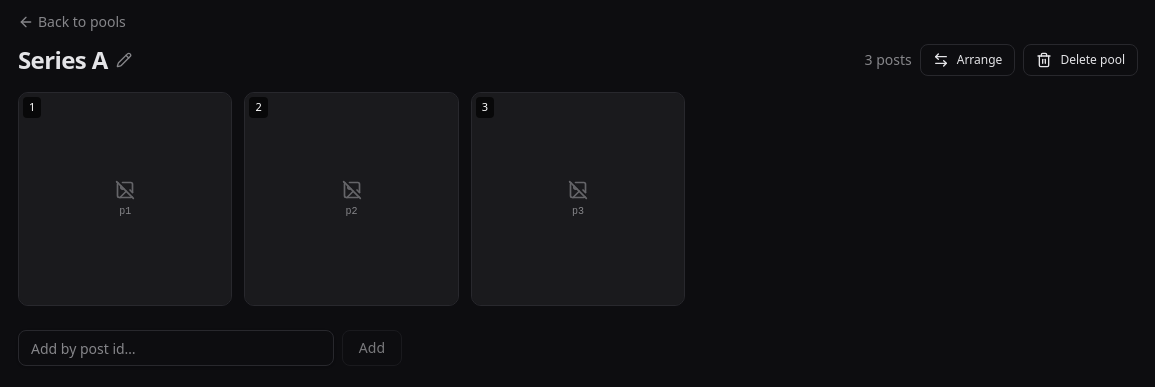
Test: PoolView › renames inline
expect the heading "Series A" is shown: met, box 18,44 -> 132,76
Step 1. Click the button named "rename pool" → click(124, 60), box 116,52 -> 132,68
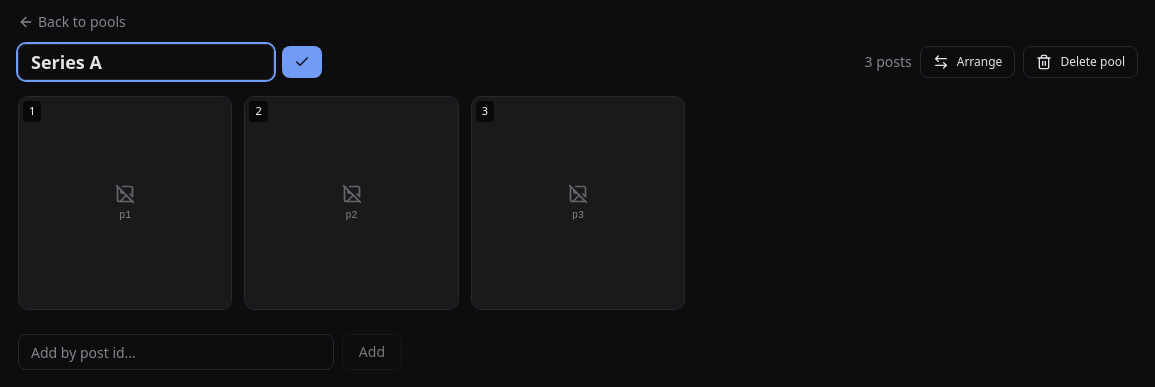
Step 2. Replace the text in the field named "pool name" with "Renamed Set" → (146, 62), box 18,44 -> 274,80
Then press Enter
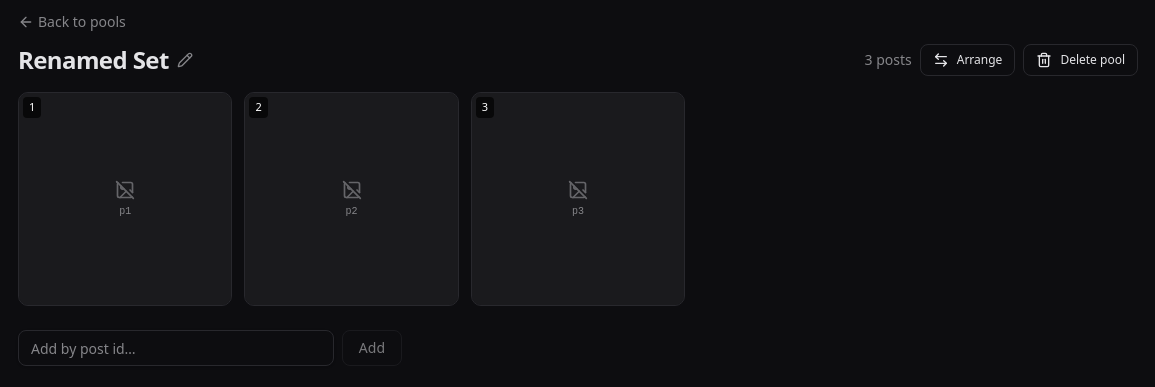
expect the heading "Renamed Set" is shown: met, box 18,44 -> 193,76
